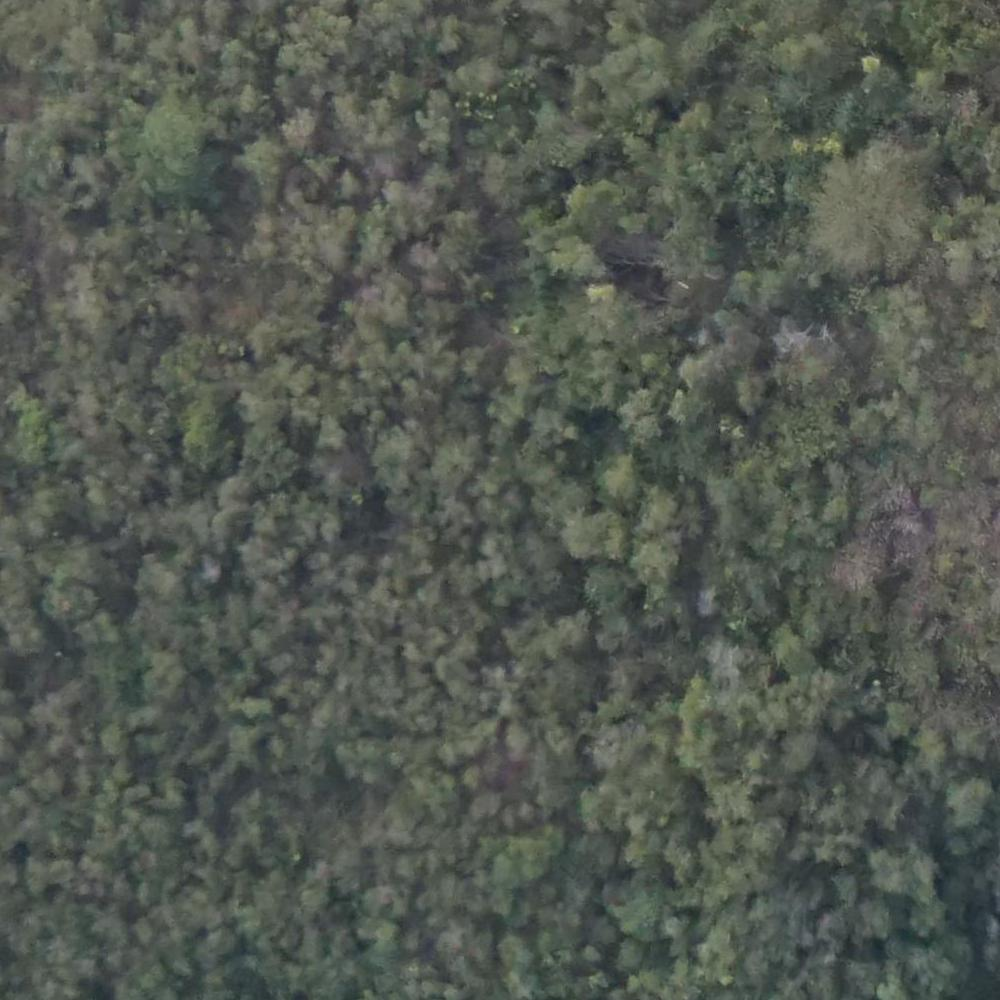tree: (815, 153, 933, 274), (609, 872, 689, 940), (146, 104, 215, 172), (679, 685, 742, 758), (360, 341, 422, 404), (782, 337, 845, 398), (492, 828, 555, 889), (867, 853, 938, 906), (944, 775, 1000, 837), (242, 429, 295, 487), (345, 285, 414, 326), (551, 233, 601, 289), (367, 433, 420, 485), (406, 769, 458, 822), (190, 415, 235, 476), (568, 515, 627, 558), (621, 389, 669, 441), (603, 56, 654, 103), (218, 724, 265, 775), (637, 538, 687, 585), (137, 645, 182, 696), (339, 735, 387, 782), (242, 136, 290, 181), (603, 456, 647, 505), (480, 668, 524, 716), (590, 566, 635, 609), (318, 552, 361, 597), (436, 437, 477, 484), (134, 553, 175, 595), (358, 888, 404, 923), (637, 486, 673, 522)
